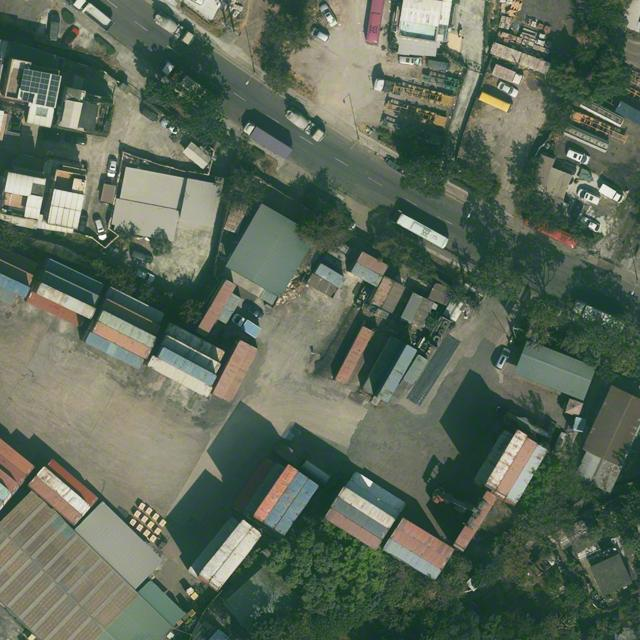SolarPanel: (20, 69, 61, 108), (22, 93, 34, 102)
